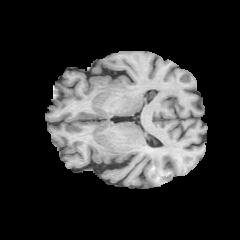glioma: (143, 155, 177, 186)
